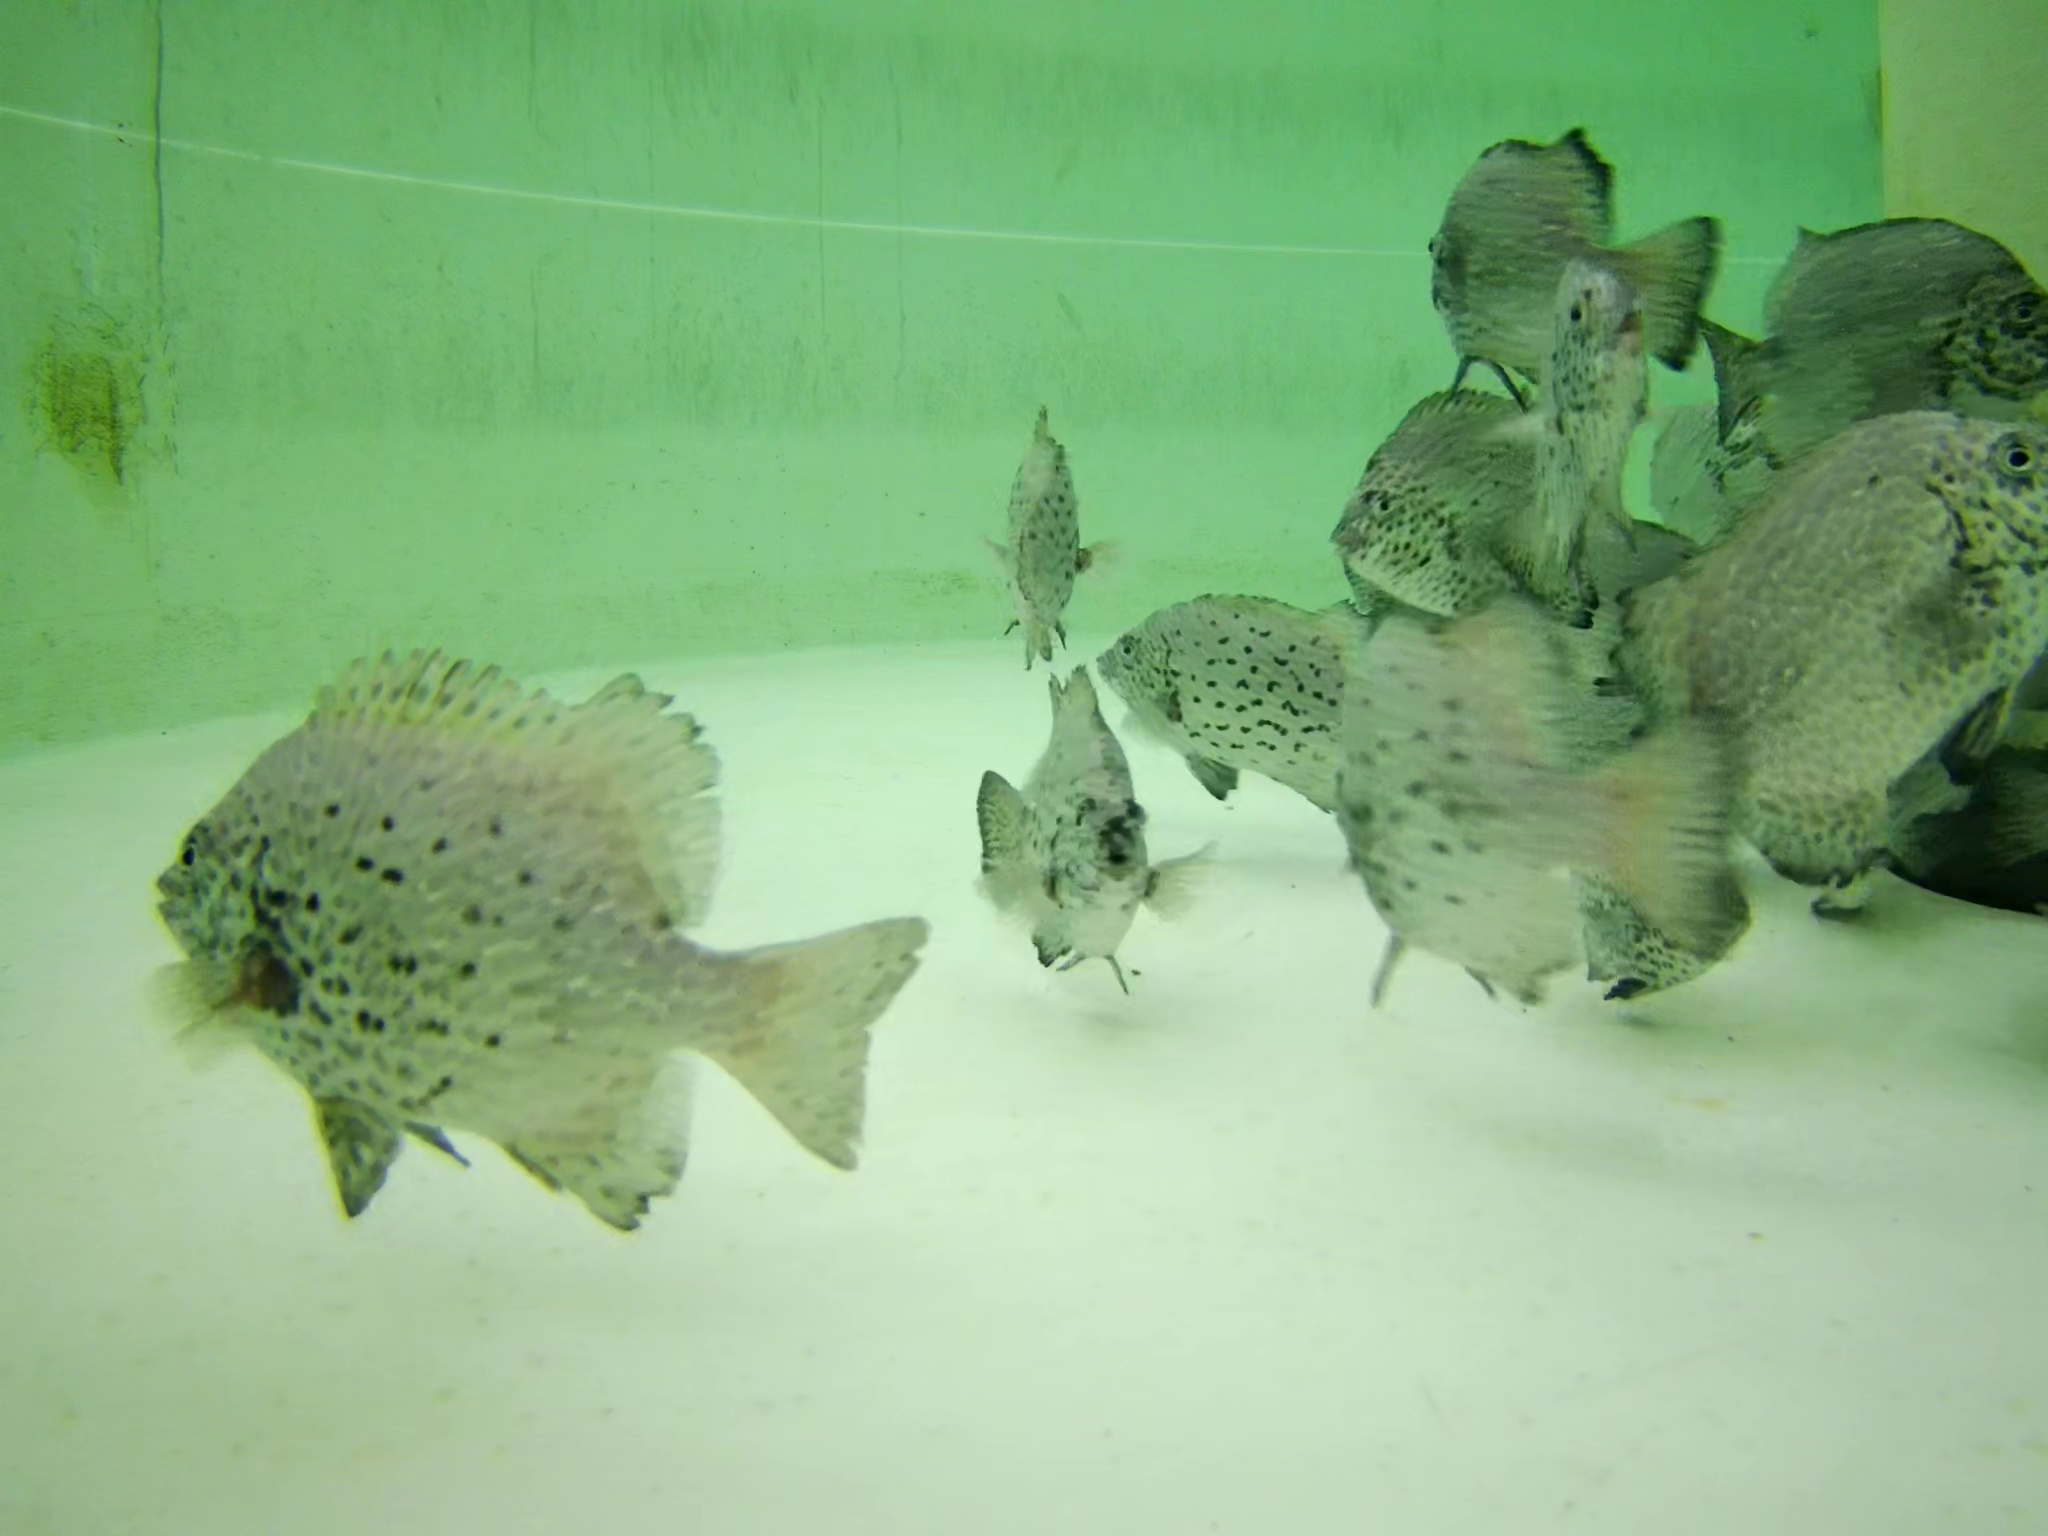fish: (150, 636, 930, 1233), (1595, 387, 2048, 813), (1316, 600, 1740, 999), (963, 660, 1200, 1015), (1421, 97, 1709, 378), (1695, 221, 2040, 439), (1317, 384, 1600, 623), (1108, 586, 1374, 813), (1698, 750, 1995, 866), (1535, 265, 1659, 529), (1003, 374, 1100, 644)
